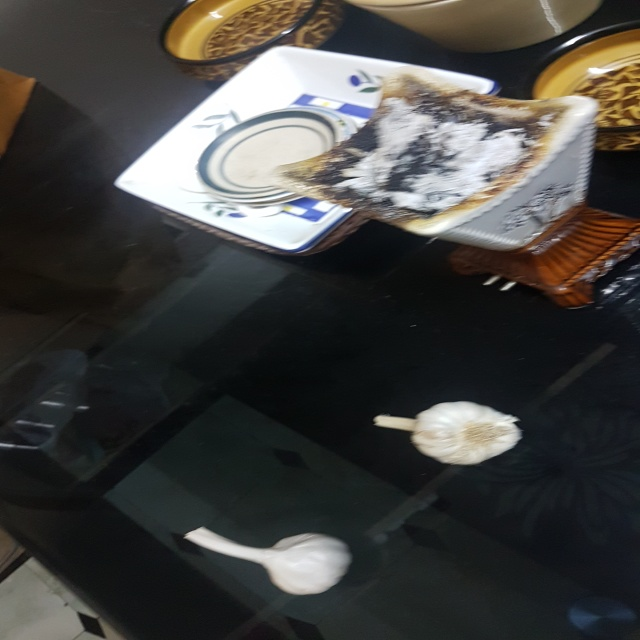garlic: (180, 506, 366, 603), (359, 387, 535, 475)
